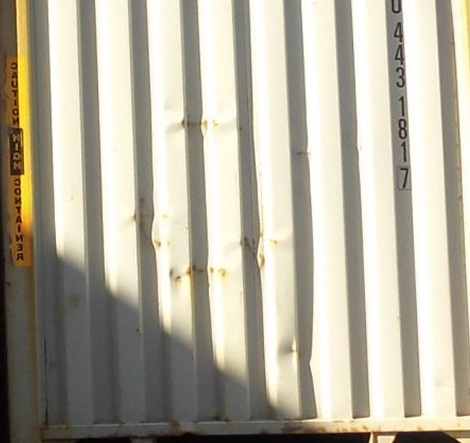container_no_door: (12, 1, 465, 439)
